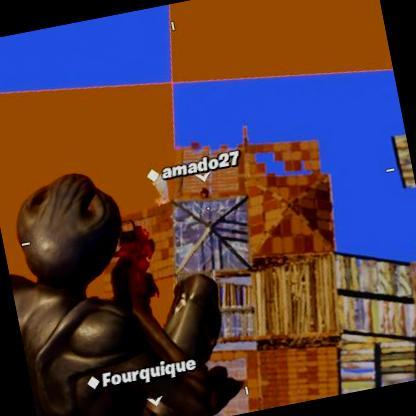person: (199, 184, 209, 195)
